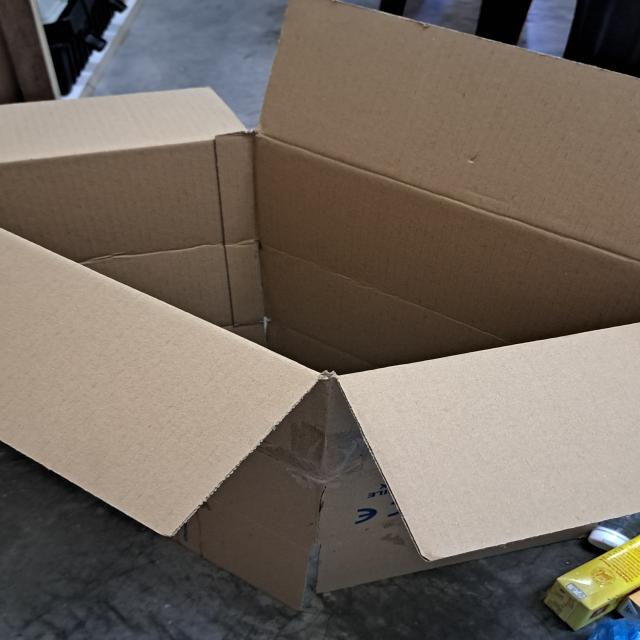cardboard: (0, 0, 640, 611)
drink carton: (542, 532, 640, 632)
plastic bottle cap: (587, 529, 628, 551)
